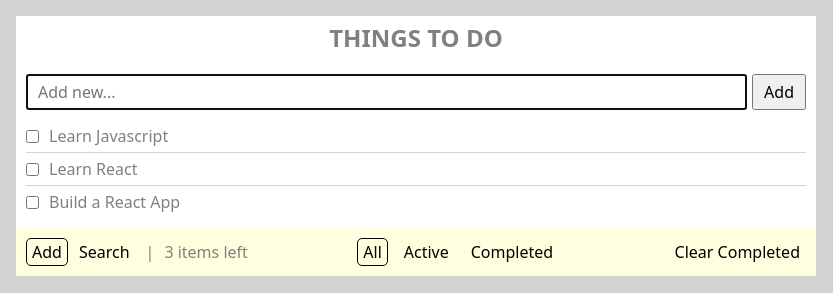
Test: App › clears completed todos
The width and height of the screenshot is (833, 293).
Click the checkbox next to "Learn Javascript": {"x": 32, "y": 136} [26,130,39,142]
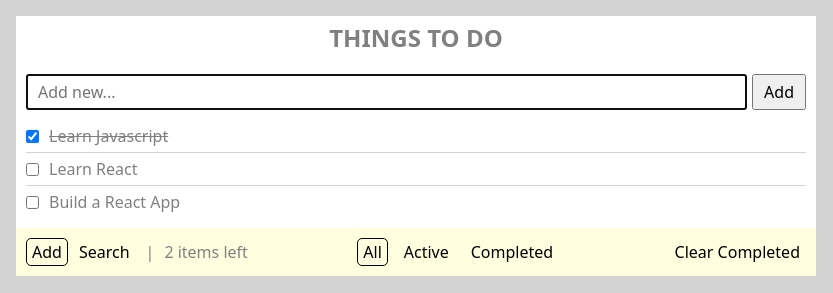
Click the button "Clear completed": {"x": 737, "y": 252} [669,238,806,266]
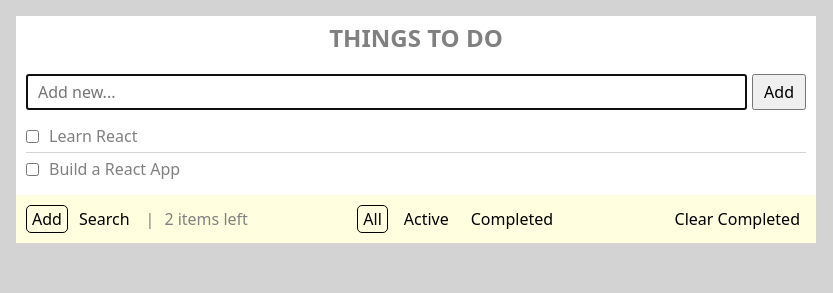
Expected: the text "Learn React" is shown, [49,125,138,147]
Expected: the text "Learn Javascript" is gone
